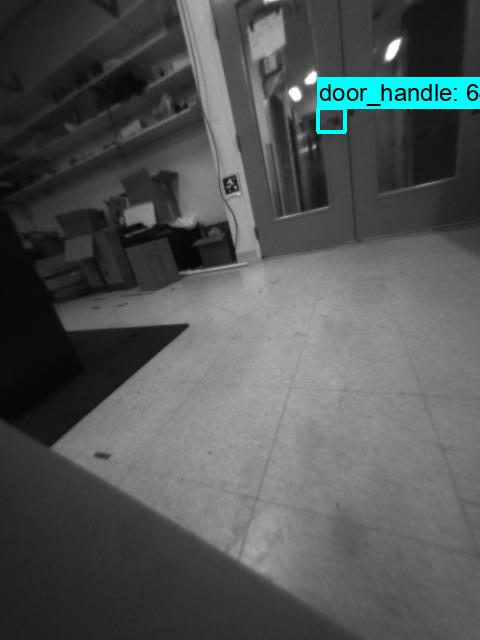door_handle: (317, 110, 344, 130)
